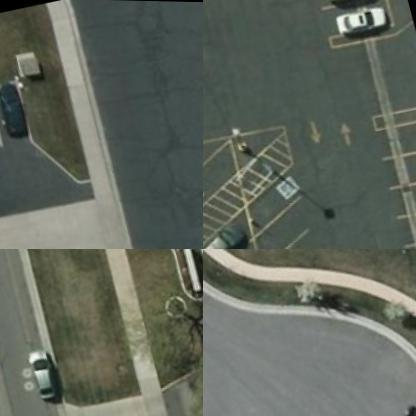car: (336, 4, 392, 46), (30, 346, 66, 405), (0, 80, 32, 144), (203, 216, 252, 248), (326, 0, 383, 10)
